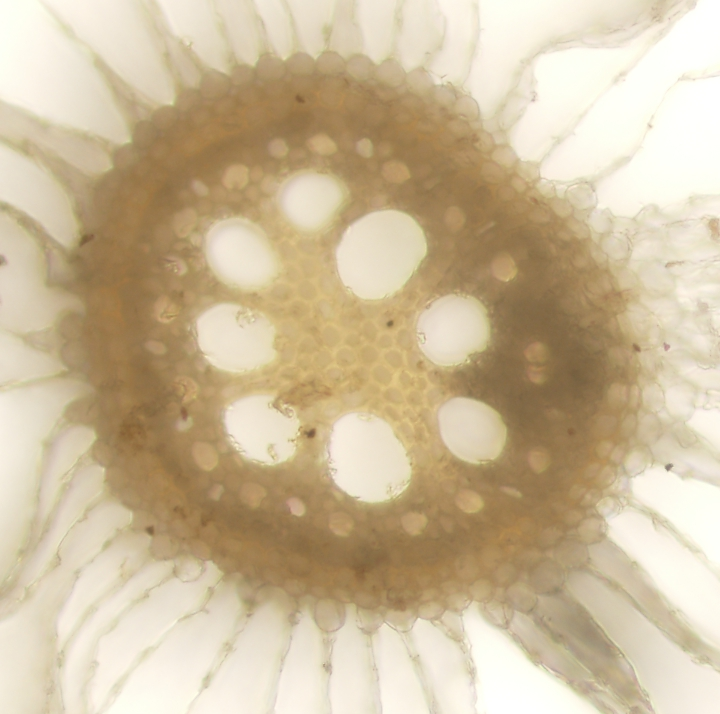lm: (336, 208, 429, 301), (329, 412, 412, 502), (204, 216, 285, 295), (194, 302, 281, 375), (223, 390, 303, 466), (416, 292, 492, 368), (439, 395, 508, 465), (278, 166, 350, 232)
